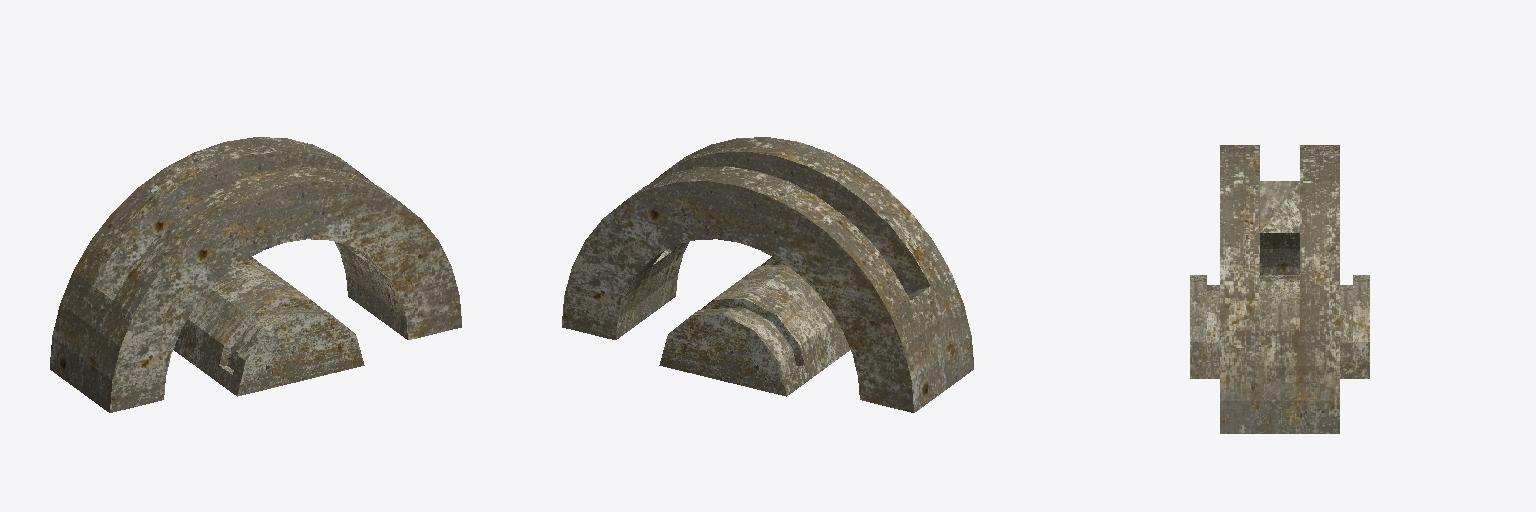
The picture shows the model from 3 angles: view 1: azimuth 30°, elevation 25°; view 2: azimuth 150°, elevation 25°; view 3: azimuth 270°, elevation 25°; orthographic projection.
Bounding box in the file's own units: 74.4 × 37.2 × 32.84.
1 materials, 1 textured.